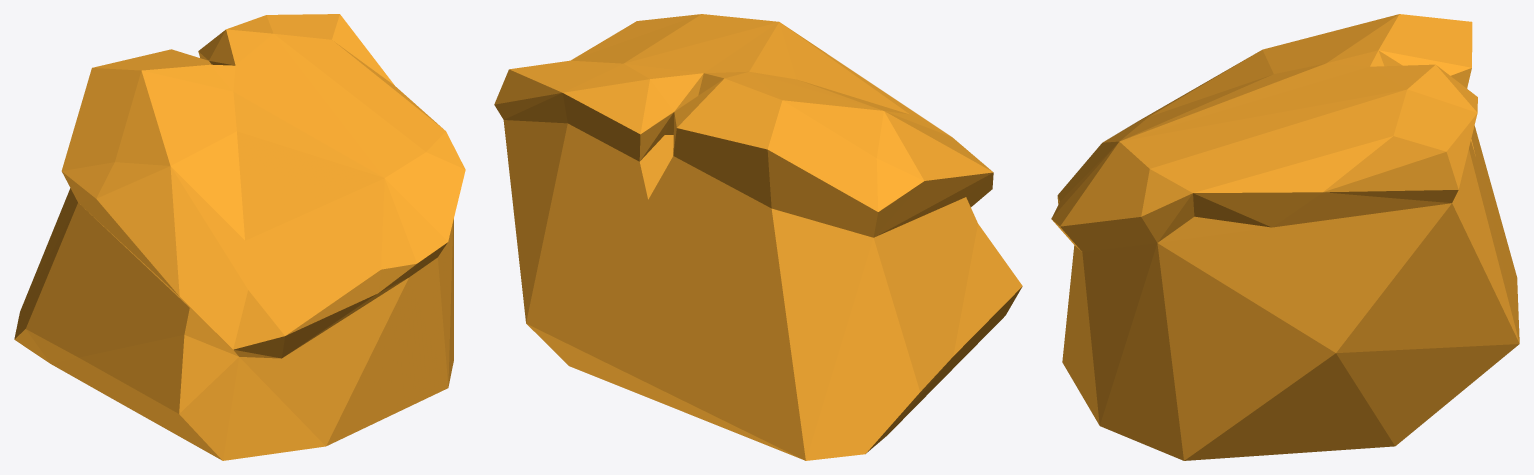
Rendered from SM_Stone_F_Snow.fbx.
3 renders of one model, left to right at view 1: azimuth 30°, elevation 25°; view 2: azimuth 150°, elevation 25°; view 3: azimuth 270°, elevation 25°, orthographic. The views are drawn at different scales.
Visible parts, largest first — view 1: stone-f-snow; view 2: stone-f-snow; view 3: stone-f-snow.
Part boxes in pixels (x1,y1,x2,y2): stone-f-snow: (14, 14, 465, 460); stone-f-snow: (494, 14, 1022, 460); stone-f-snow: (1051, 14, 1519, 460).
Bounding box in the file's own units: 0.9217 × 0.6968 × 0.8911.
